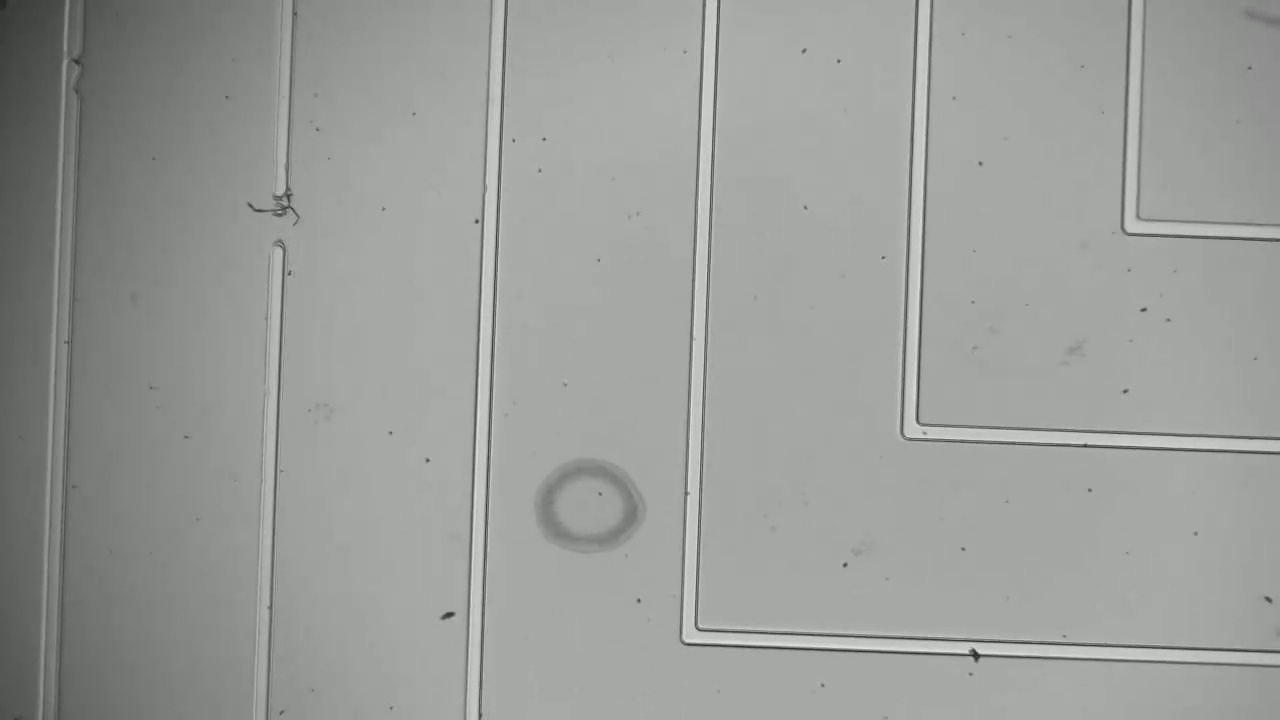edge_bite: (56, 66, 87, 105), (56, 41, 86, 71)
open: (259, 178, 296, 265)
stains_enbedded: (963, 635, 986, 664)
